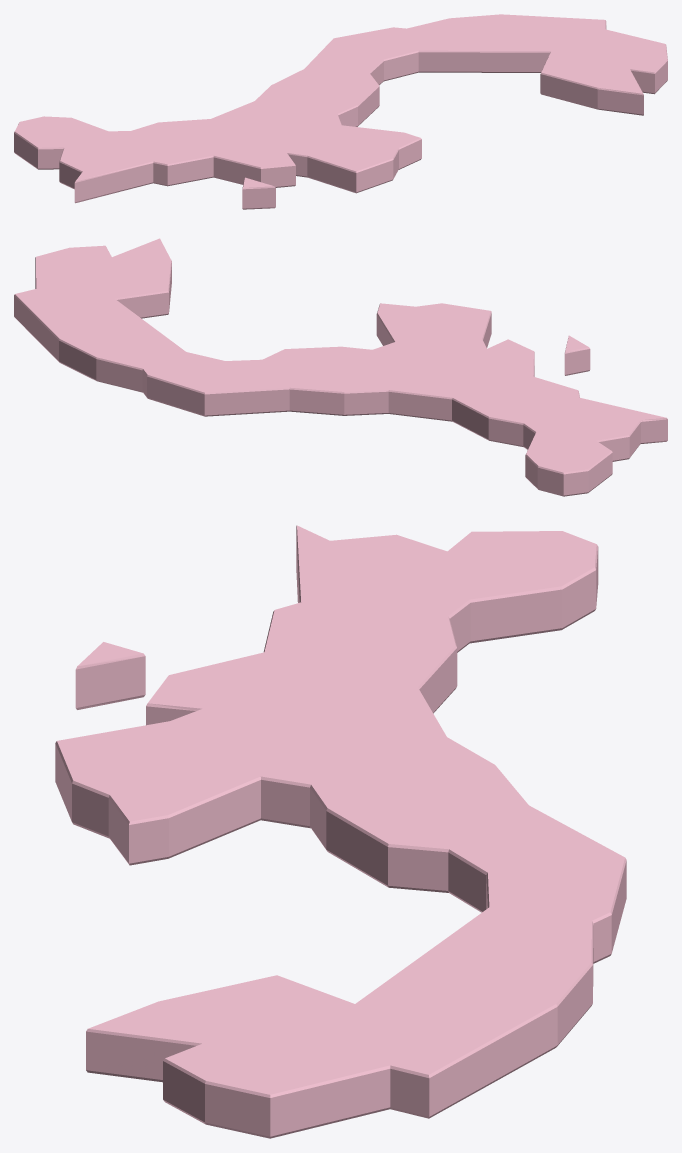
The model's file is PAN.glb.
3 renders of one model, top to bottom at view 1: azimuth 30°, elevation 25°; view 2: azimuth 150°, elevation 25°; view 3: azimuth 270°, elevation 25°, orthographic. The views are drawn at different scales.
Size of the model in its own units: 1.9 by 0.068 by 0.8038.
